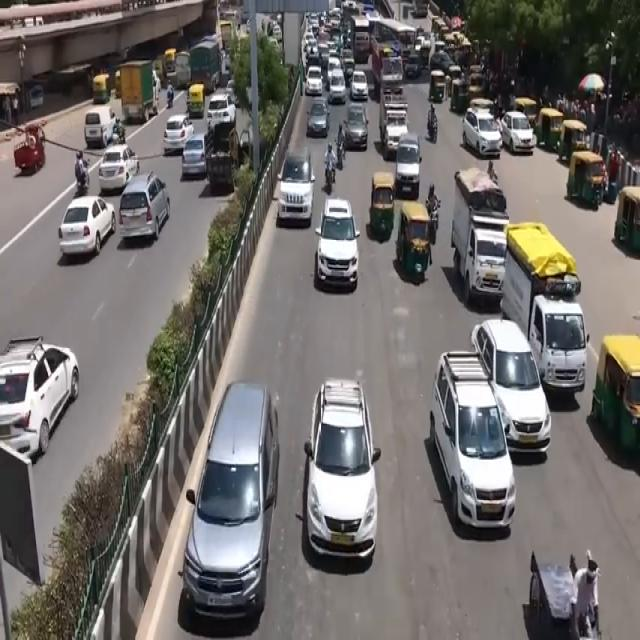MOTORCYCLE: (399, 199, 431, 291), (370, 171, 396, 241), (318, 141, 342, 196), (423, 181, 442, 250), (425, 103, 441, 145)
SED: (301, 375, 381, 583), (317, 195, 359, 297), (274, 144, 315, 226)
TRUCK: (504, 228, 591, 398), (377, 85, 411, 159), (118, 59, 156, 122)
